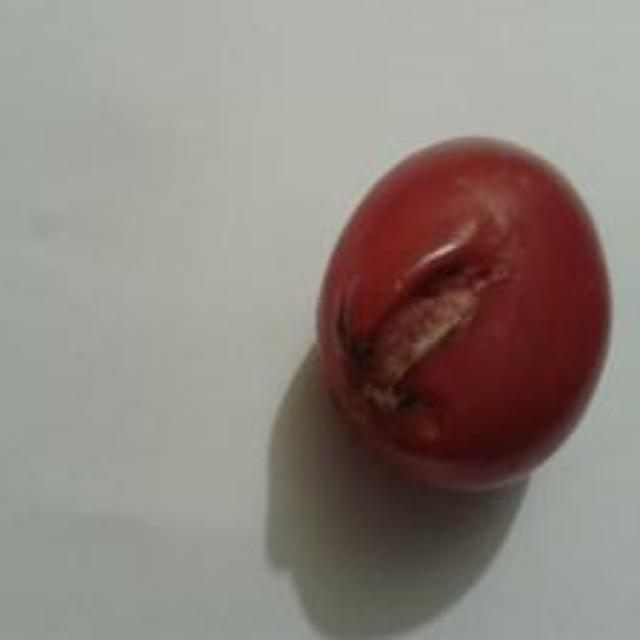defect: (309, 128, 621, 499)
